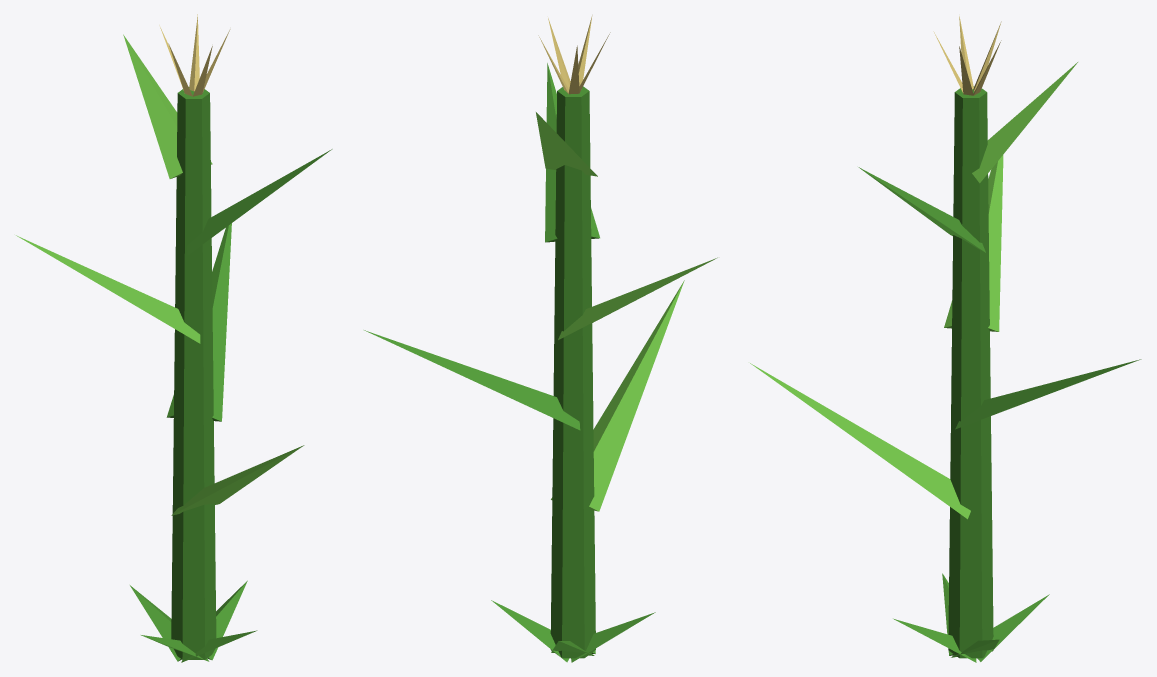
The model's file is Bitki_Misir.fbx.
The picture shows the model from 3 angles, left to right: view 1: azimuth 30°, elevation 25°; view 2: azimuth 150°, elevation 25°; view 3: azimuth 270°, elevation 25°; orthographic projection.
Parts seen in each view (by area): view 1: Bitki_Misir; view 2: Bitki_Misir; view 3: Bitki_Misir.
Part boxes in pixels (x1,y1,x2,y2): Bitki_Misir: (16,14,332,662); Bitki_Misir: (364,15,717,662); Bitki_Misir: (750,16,1141,662).
Size of the model in its own units: 51.31 by 106 by 60.94.
